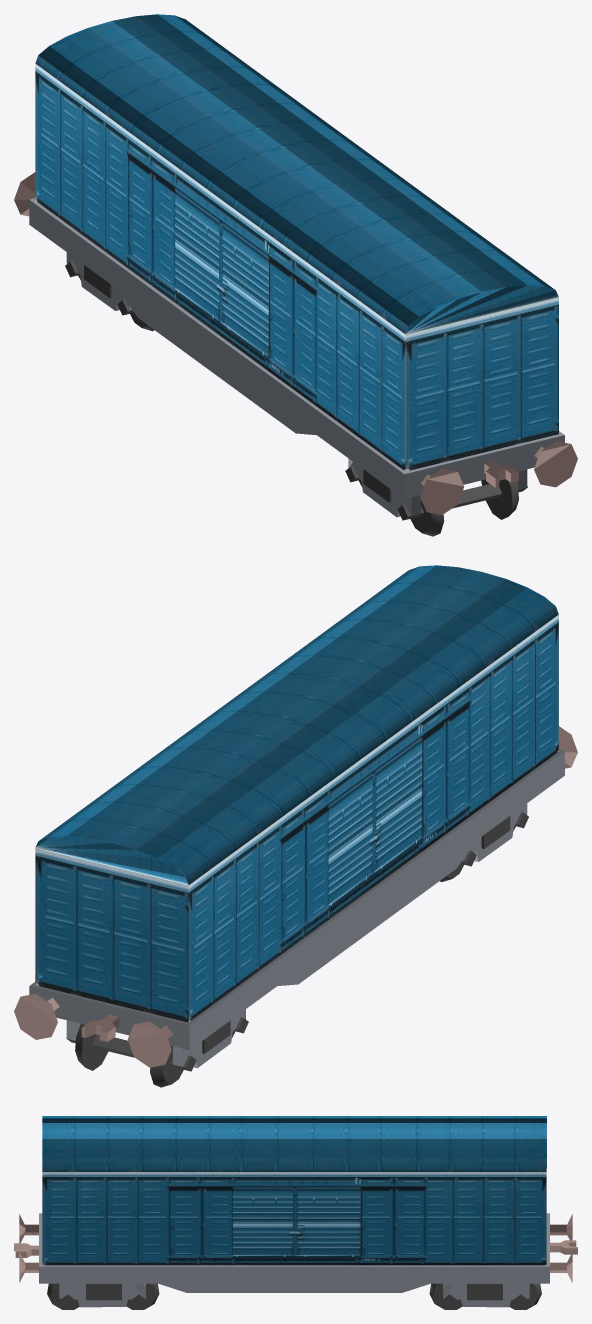
Rendered from boxcarblue.dae.
The picture shows the model from 3 angles, top to bottom: view 1: azimuth 30°, elevation 25°; view 2: azimuth 150°, elevation 25°; view 3: azimuth 270°, elevation 25°; orthographic projection. The views are drawn at different scales.
Parts seen in each view (by area): view 1: 9.0.242.0_Pts_Material_Surf, 9.0.242.0_Pts_Material__4__Surf, 9.0.242.0_Pts_Material__2__Surf, 9.0.242.0_Pts_Material__3__Surf; view 2: 9.0.242.0_Pts_Material_Surf, 9.0.242.0_Pts_Material__4__Surf, 9.0.242.0_Pts_Material__2__Surf, 9.0.242.0_Pts_Material__3__Surf; view 3: 9.0.242.0_Pts_Material_Surf, 9.0.242.0_Pts_Material__4__Surf, 9.0.242.0_Pts_Material__3__Surf, 9.0.242.0_Pts_Material__2__Surf.
Boxes of the visible parts, x1,y1,x2,y2 form: 9.0.242.0_Pts_Material_Surf: (35, 14, 558, 471); 9.0.242.0_Pts_Material__4__Surf: (29, 198, 564, 517); 9.0.242.0_Pts_Material__2__Surf: (14, 172, 577, 514); 9.0.242.0_Pts_Material__3__Surf: (65, 261, 527, 536); 9.0.242.0_Pts_Material_Surf: (35, 565, 558, 1022); 9.0.242.0_Pts_Material__4__Surf: (29, 749, 564, 1068); 9.0.242.0_Pts_Material__2__Surf: (14, 726, 577, 1067); 9.0.242.0_Pts_Material__3__Surf: (66, 812, 528, 1087); 9.0.242.0_Pts_Material_Surf: (42, 1116, 546, 1265); 9.0.242.0_Pts_Material__4__Surf: (39, 1213, 549, 1307); 9.0.242.0_Pts_Material__3__Surf: (47, 1283, 541, 1309); 9.0.242.0_Pts_Material__2__Surf: (14, 1214, 577, 1282).
Bounding box in the file's own units: 3.21 × 4.72 × 14.32.
4 materials, 1 textured.
